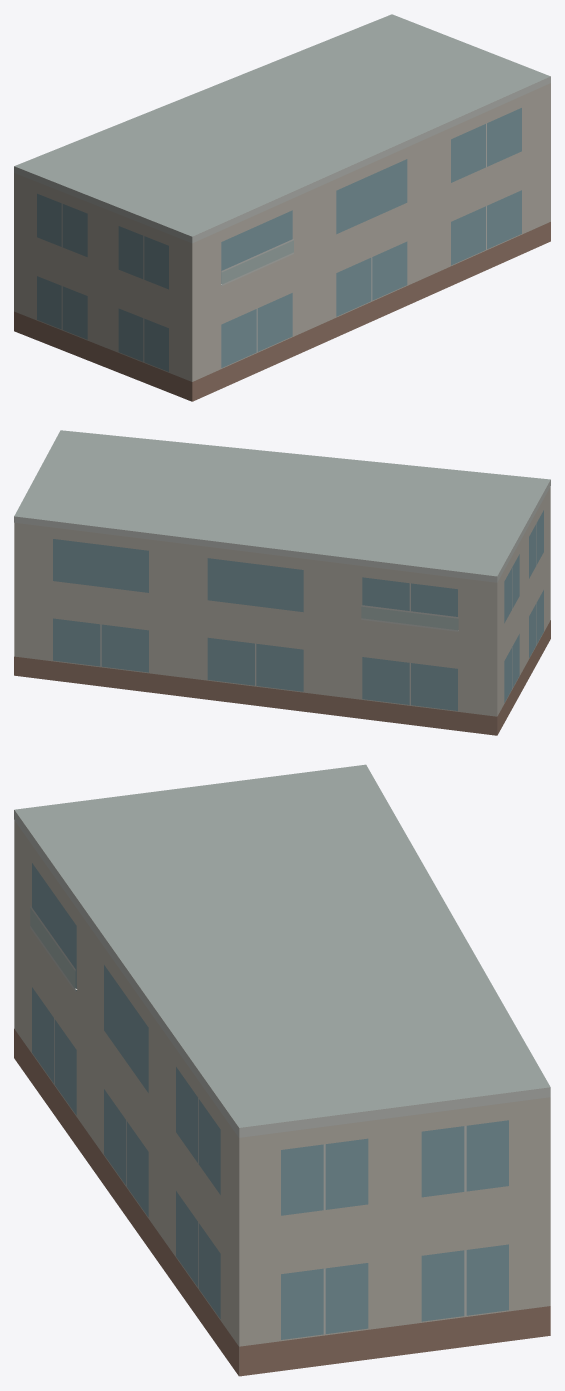
File: survey-upis-32919702.glb
The picture shows the model from 3 angles, top to bottom: view 1: azimuth 30°, elevation 25°; view 2: azimuth 150°, elevation 25°; view 3: azimuth 270°, elevation 25°; orthographic projection. The views are drawn at different scales.
Visible parts, largest first — view 1: survey-upis-32919702.tmp; view 2: survey-upis-32919702.tmp; view 3: survey-upis-32919702.tmp.
Part boxes in pixels (x1,y1,x2,y2): survey-upis-32919702.tmp: (14,14,550,401); survey-upis-32919702.tmp: (14,430,550,735); survey-upis-32919702.tmp: (14,764,550,1376).
Bounding box in the file's own units: 19.15 × 6.1 × 11.95.
